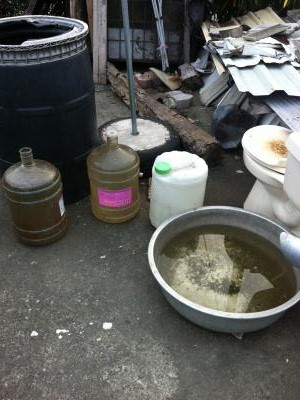bowl: (145, 203, 300, 337)
bucket: (1, 13, 95, 206), (2, 144, 71, 249), (84, 128, 142, 225), (147, 149, 209, 230)
toilet: (241, 119, 300, 231)
